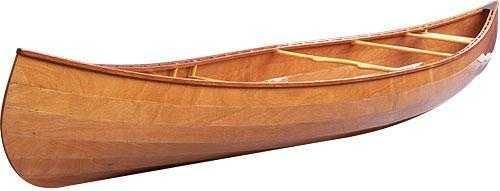kayak: (1, 12, 495, 189)
